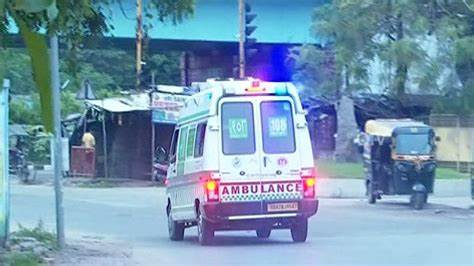ambulance: (160, 73, 338, 247)
